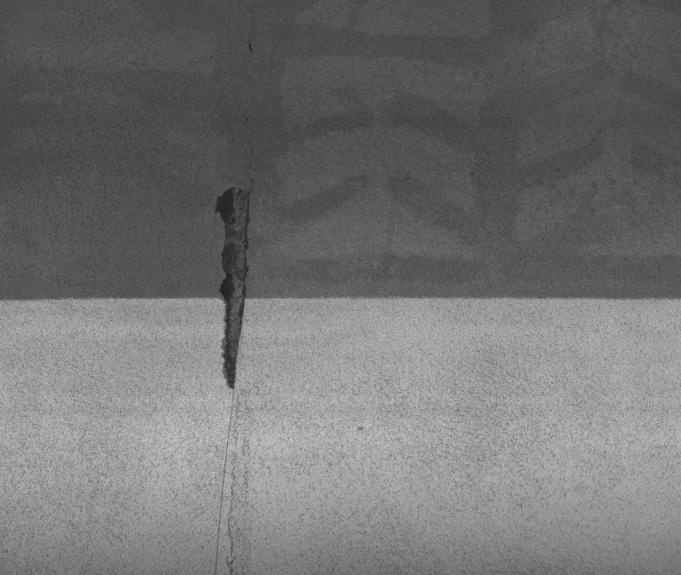裂缝: (167, 161, 402, 417)
